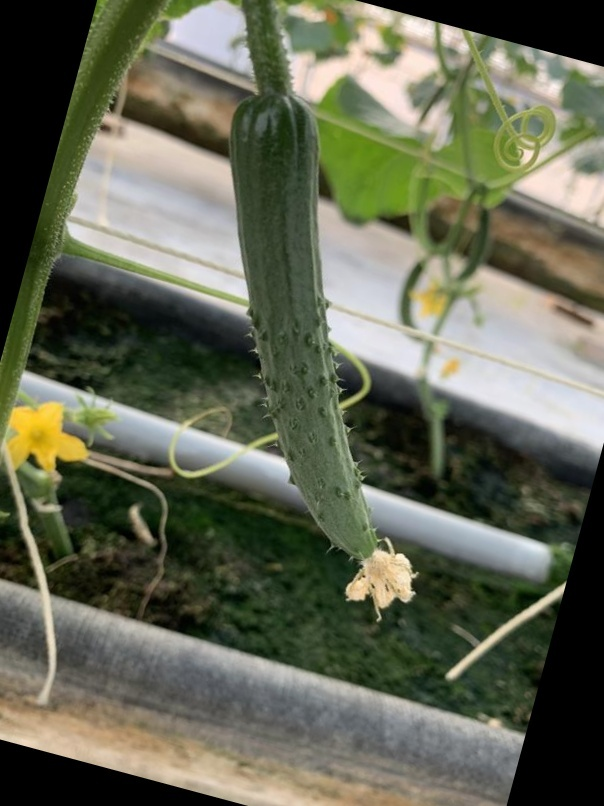growth: (190, 63, 412, 617)
